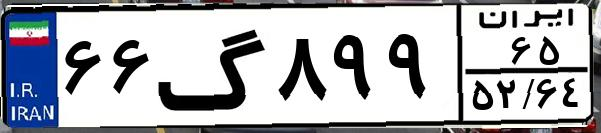2: (495, 70, 520, 125)
4: (560, 70, 590, 125)
5: (537, 27, 568, 80), (470, 70, 495, 125)
6: (57, 26, 110, 100), (110, 28, 156, 98), (508, 27, 537, 80), (535, 70, 560, 125)
8: (270, 28, 330, 110)
9: (385, 28, 445, 110), (330, 28, 385, 110)
گ: (156, 12, 270, 120)
